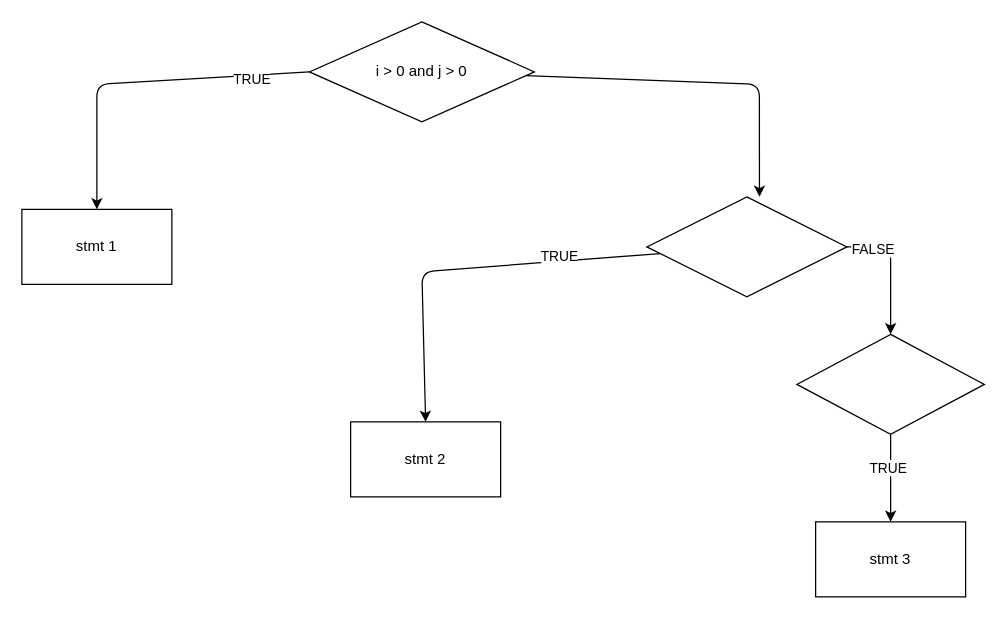
Some shapes in this 1006 by 619 pixel diagram are drawn without their labels. The shapes that lost their labels are listed below. From the top down, each one's centre as x and y in pixels, then its label:
At point 746,246: "i > 0 and j <==0".
At point 890,383: "i <= 0 and j < 0".
